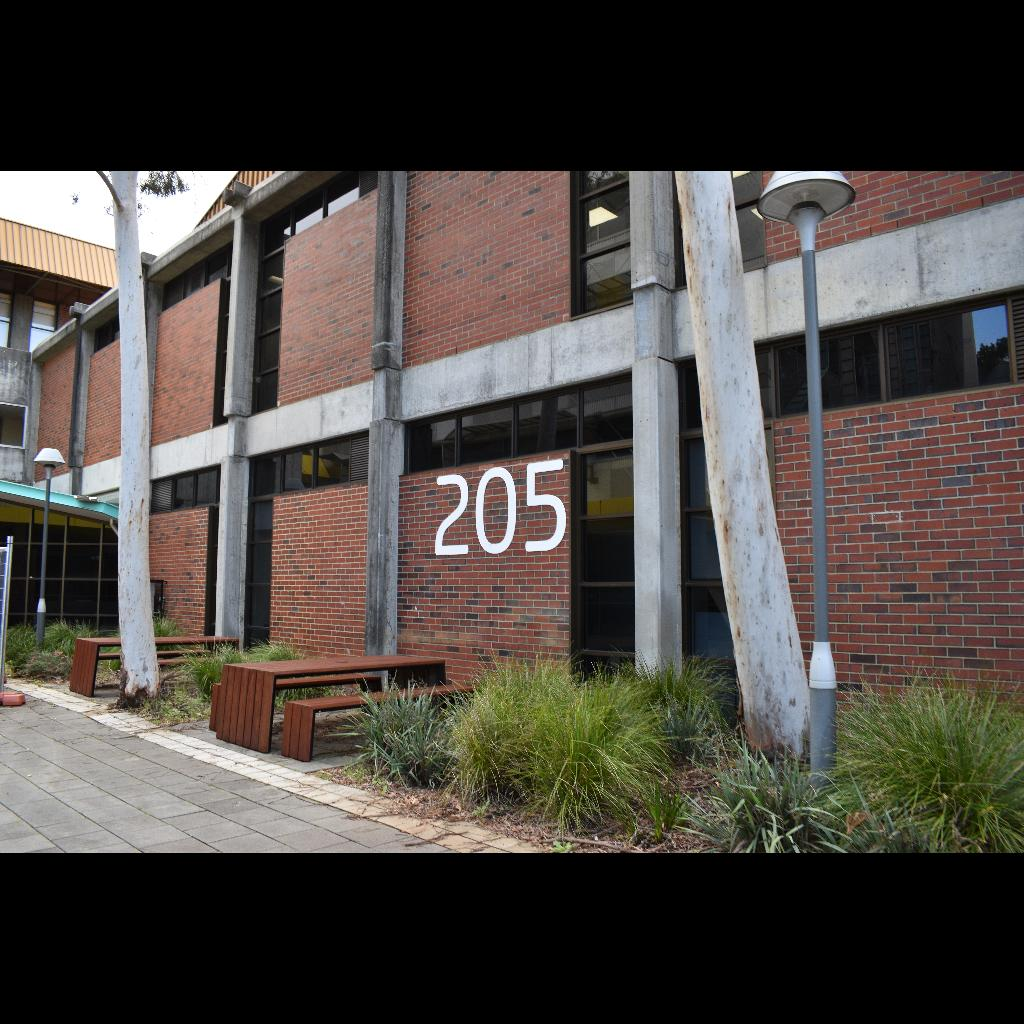BuildingCodes: (432, 456, 568, 560)
